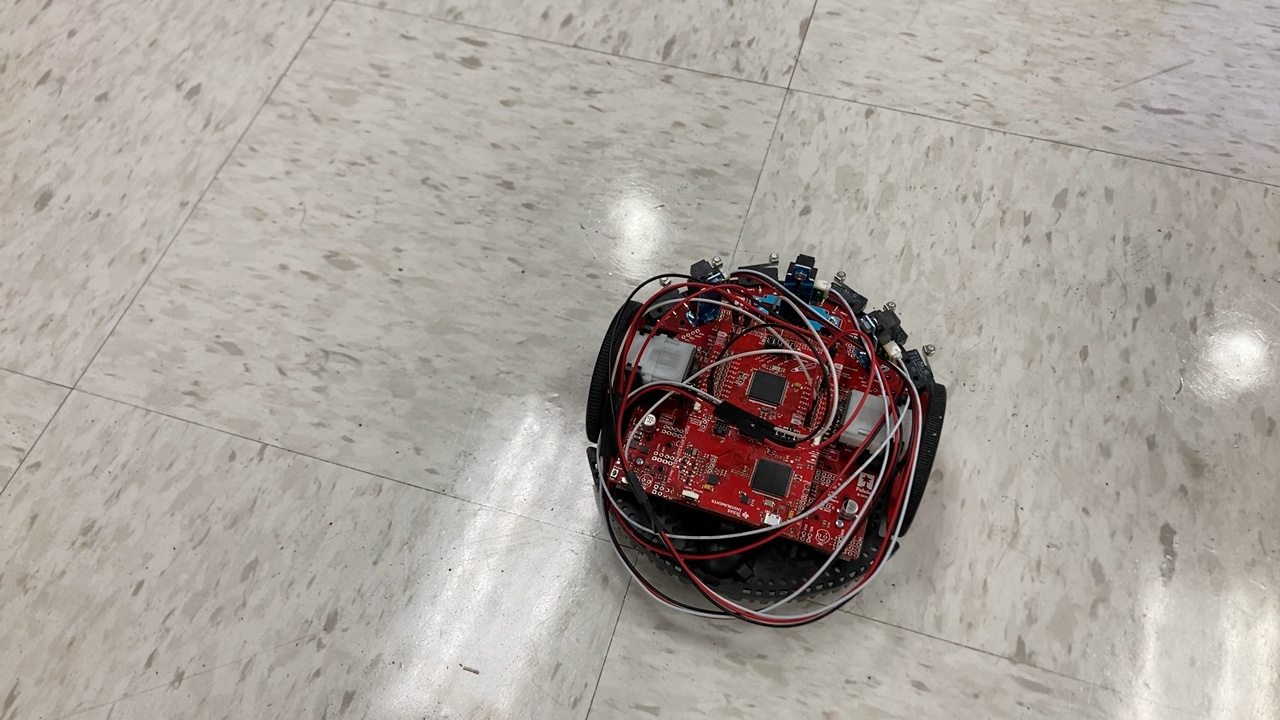robot: (574, 250, 953, 641)
